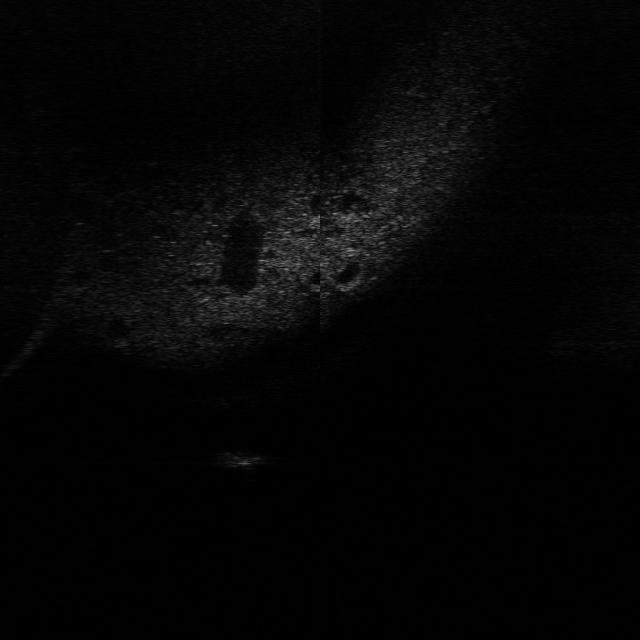cube: (206, 445, 280, 471)
